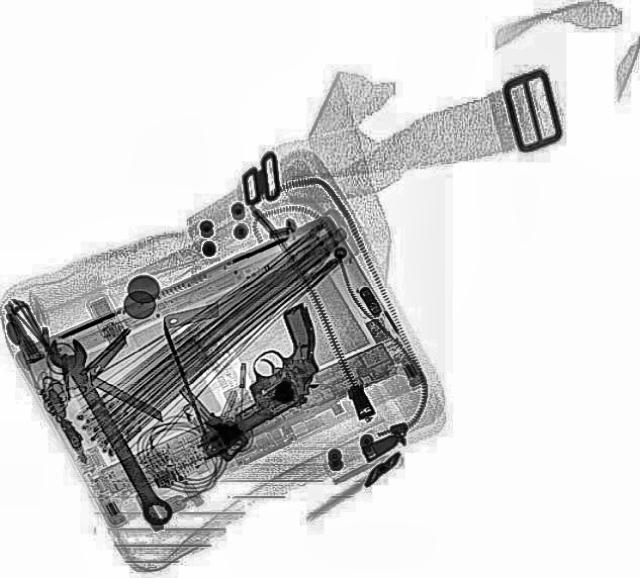Gun: (150, 299, 358, 457)
Wrench: (39, 330, 182, 532)
